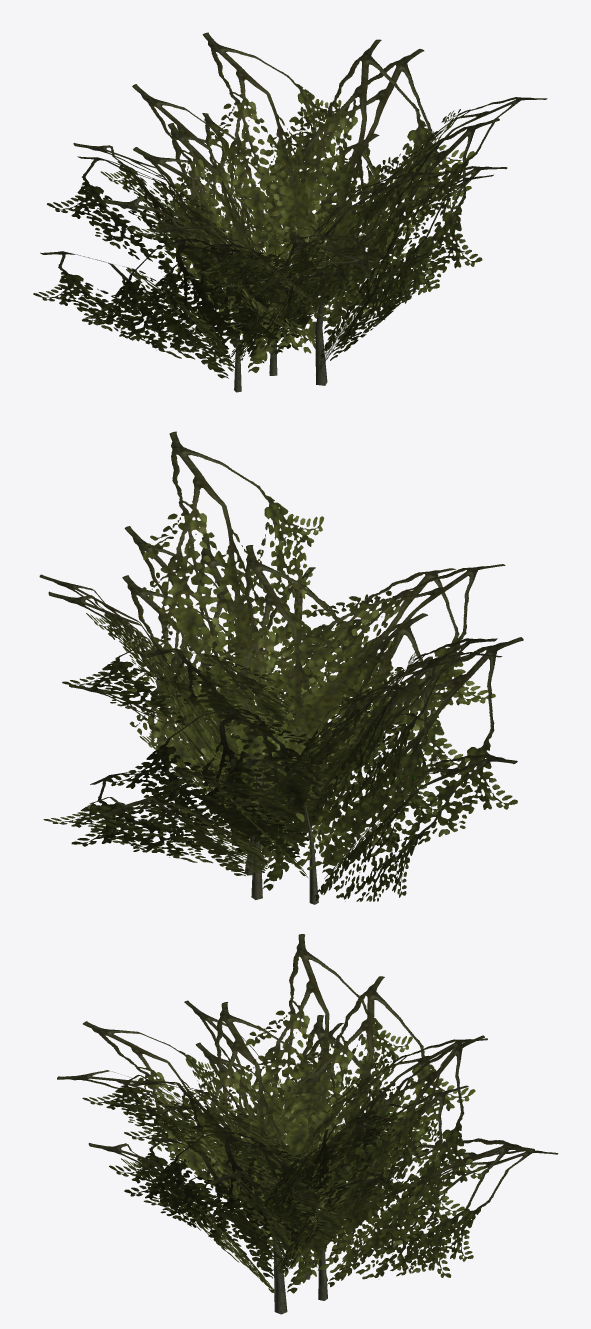
The model's file is bush4.glb.
3 views of the same model, one above another, from view 1: azimuth 30°, elevation 25°; view 2: azimuth 150°, elevation 25°; view 3: azimuth 270°, elevation 25° (orthographic). The views are drawn at different scales.
Visible parts, largest first — view 1: Bush4; view 2: Bush4; view 3: Bush4.
Boxes of the visible parts, bbox=[...] form: Bush4: bbox=[33, 32, 547, 392]; Bush4: bbox=[39, 431, 523, 904]; Bush4: bbox=[57, 934, 558, 1314].
Bounding box in the file's own units: 8.68 × 5.48 × 9.14.
2 materials, 2 textured.
